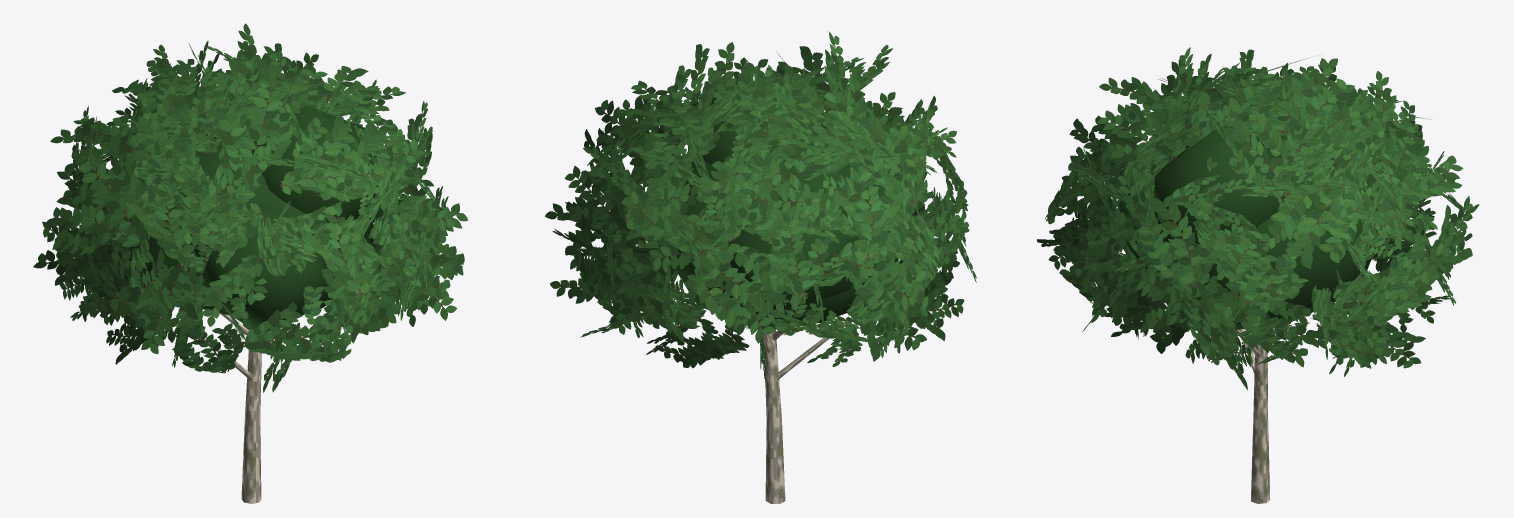
The model's file is LIGUSTRUM_1.glb.
3 views of the same model, side by side, from view 1: azimuth 30°, elevation 25°; view 2: azimuth 150°, elevation 25°; view 3: azimuth 270°, elevation 25° (orthographic).
Parts seen in each view (by area): view 1: Arv_LIGUSTRUM_lod1; view 2: Arv_LIGUSTRUM_lod1; view 3: Arv_LIGUSTRUM_lod1.
Part boxes in pixels (box(x1,y1,x2,y2)): Arv_LIGUSTRUM_lod1: box(33, 23, 468, 503); Arv_LIGUSTRUM_lod1: box(545, 31, 976, 503); Arv_LIGUSTRUM_lod1: box(1037, 47, 1479, 503).
Bounding box in the file's own units: 10 × 10.87 × 10.42.
3 materials, 2 textured.
